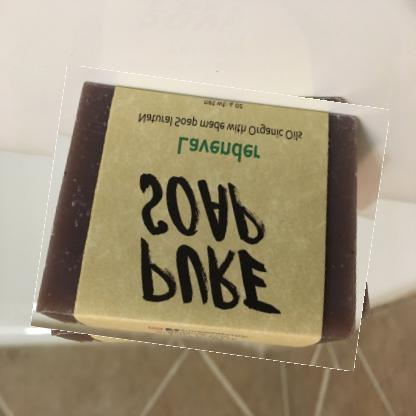soap: (40, 76, 382, 361)
